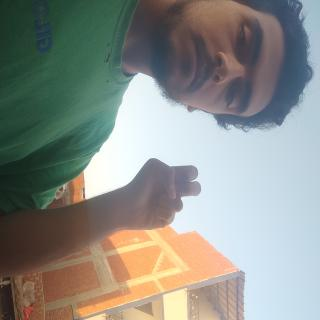QAAF: (115, 150, 175, 260)
